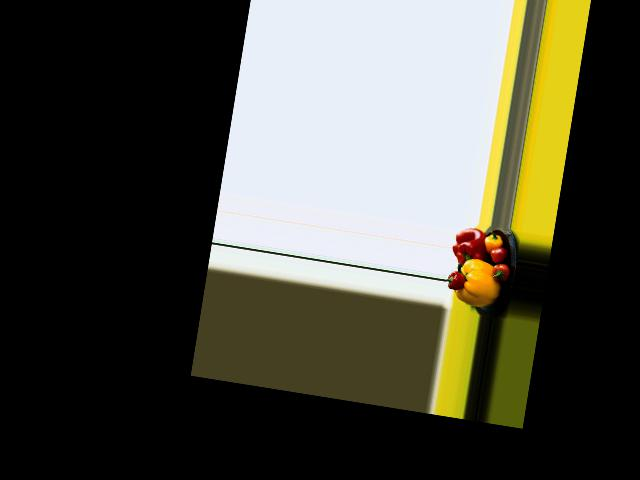bell_pepper: (482, 231, 503, 252)
